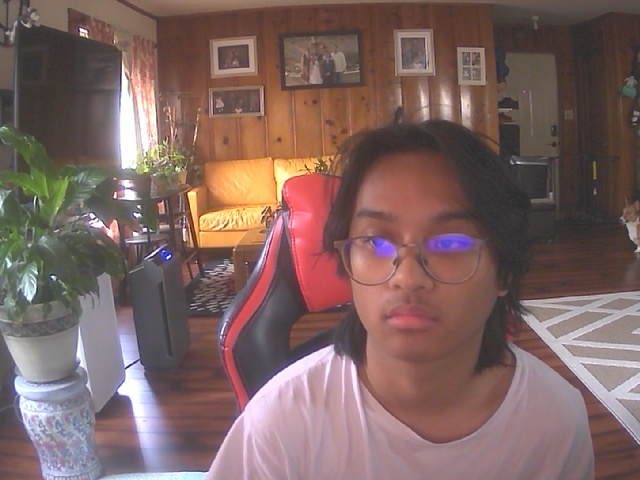neutral: (329, 123, 519, 370)
